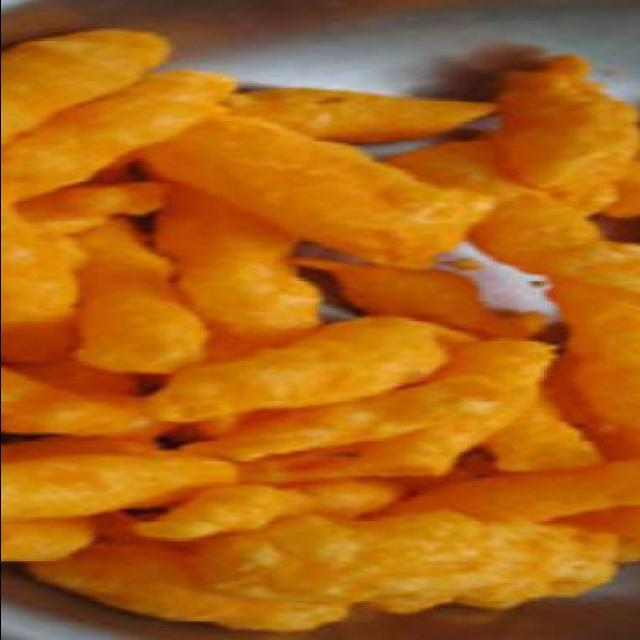Chips packaged: (2, 35, 632, 616)
